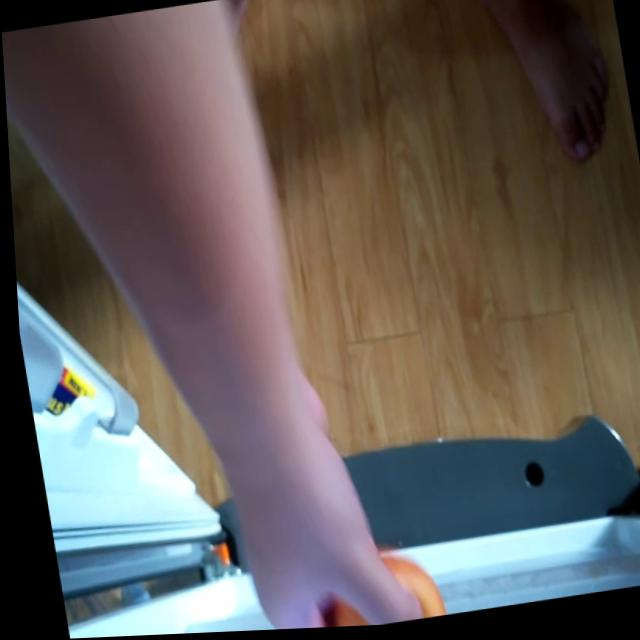apple: (321, 544, 438, 630)
